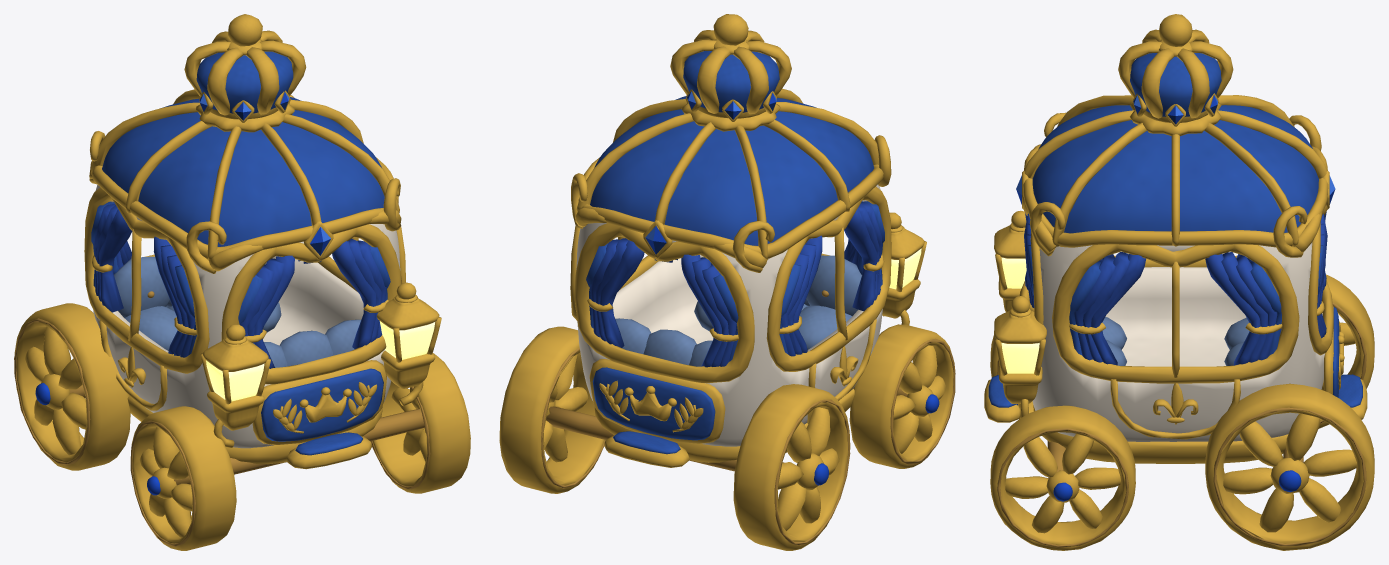
Rendered from RoyalCarriage.glb.
3 views of the same model, side by side, from view 1: azimuth 30°, elevation 25°; view 2: azimuth 150°, elevation 25°; view 3: azimuth 270°, elevation 25° (orthographic). The views are drawn at different scales.
Visible parts, largest first — view 1: Gilded brass, Satin enamel, Ivory porcelain, Velvet, Upholstery, Lantern glass, Sapphire; view 2: Gilded brass, Satin enamel, Ivory porcelain, Velvet, Upholstery, Sapphire, Lantern glass; view 3: Gilded brass, Satin enamel, Ivory porcelain, Velvet, Lantern glass, Upholstery, Sapphire.
Part boxes in pixels (x1,y1,x2,y2): Gilded brass: (14,14,470,550); Satin enamel: (91,51,390,455); Ivory porcelain: (93,185,400,448); Velvet: (94,204,386,368); Upholstery: (114,256,360,367); Lantern glass: (206,321,434,401); Sapphire: (35,92,330,495); Gilded brass: (499,14,955,550); Satin enamel: (586,51,884,454); Ivory porcelain: (576,184,882,446); Velvet: (590,203,881,367); Upholstery: (615,255,861,366); Sapphire: (645,91,939,485); Lantern glass: (889,248,921,289); Gilded brass: (984,14,1374,550); Satin enamel: (988,53,1362,407); Ivory porcelain: (1032,242,1324,441); Velvet: (1024,212,1327,365); Lantern glass: (1001,257,1039,373); Upholstery: (1102,317,1249,365); Sapphire: (1016,95,1335,501).
Size of the model in its own units: 0.6937 by 1 by 0.7533.
Materials: 8 (8 with a texture image).
